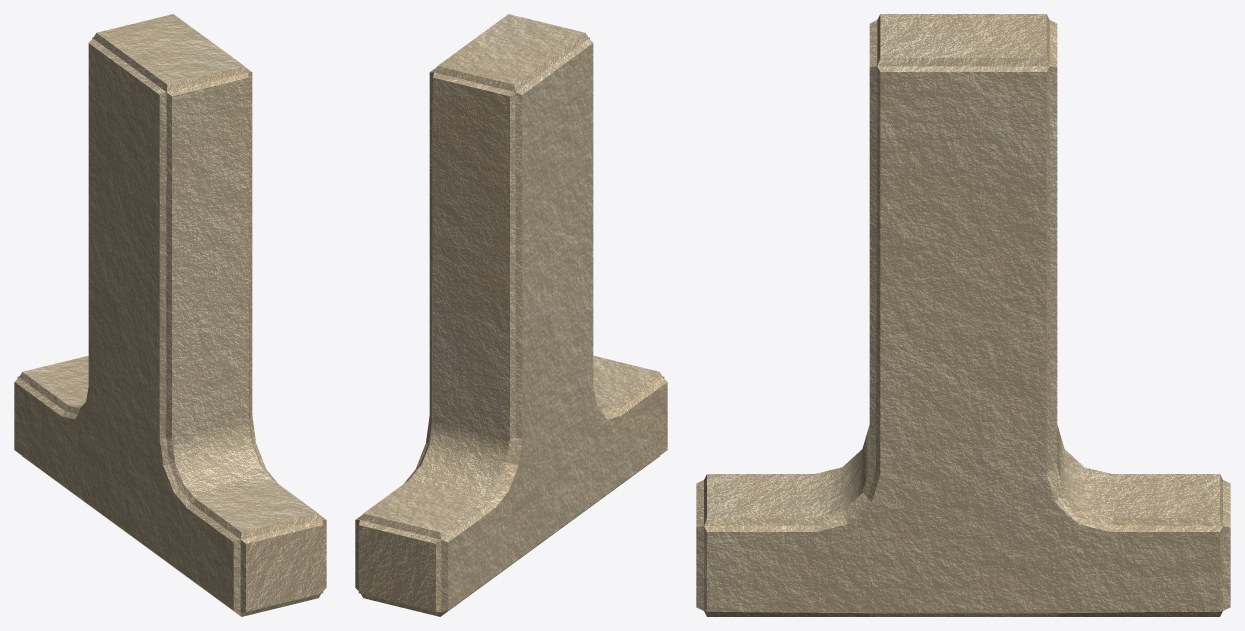
File: geo_Tform.fbx
3 renders of one model, left to right at view 1: azimuth 30°, elevation 25°; view 2: azimuth 150°, elevation 25°; view 3: azimuth 270°, elevation 25°, orthographic. The views are drawn at different scales.
Visible parts, largest first — view 1: geo_Tform_01; view 2: geo_Tform_01; view 3: geo_Tform_01.
Boxes of the visible parts, x1=… form: geo_Tform_01: x1=14, y1=14, x2=326, y2=616; geo_Tform_01: x1=355, y1=14, x2=667, y2=616; geo_Tform_01: x1=696, y1=14, x2=1230, y2=616.
Bounding box in the file's own units: 33 × 162 × 141.
